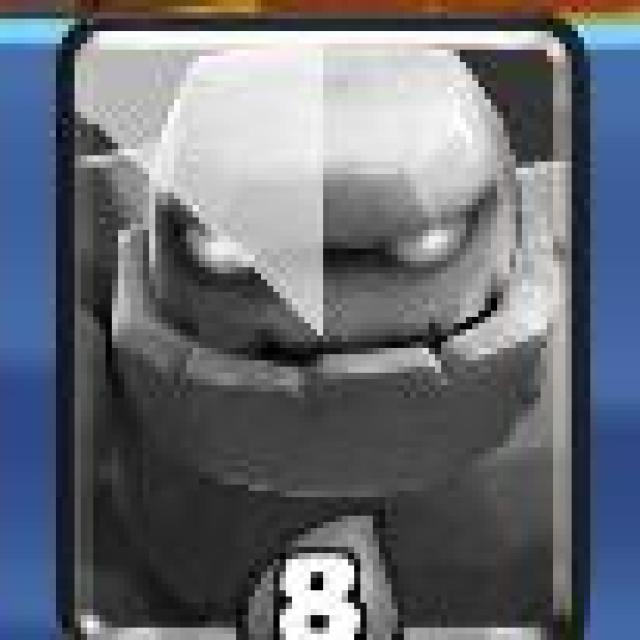Golem: (60, 18, 590, 640)
